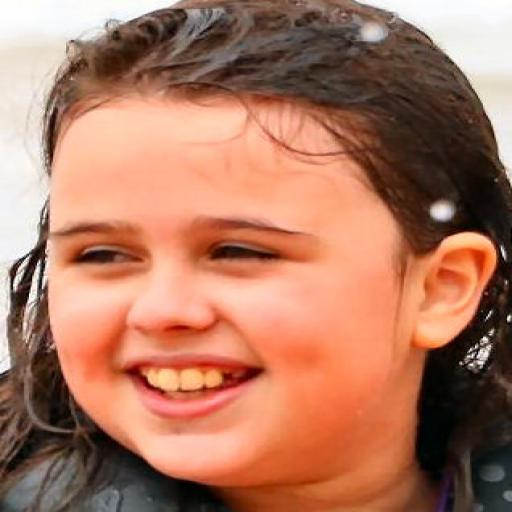Autism: (26, 15, 512, 512)
